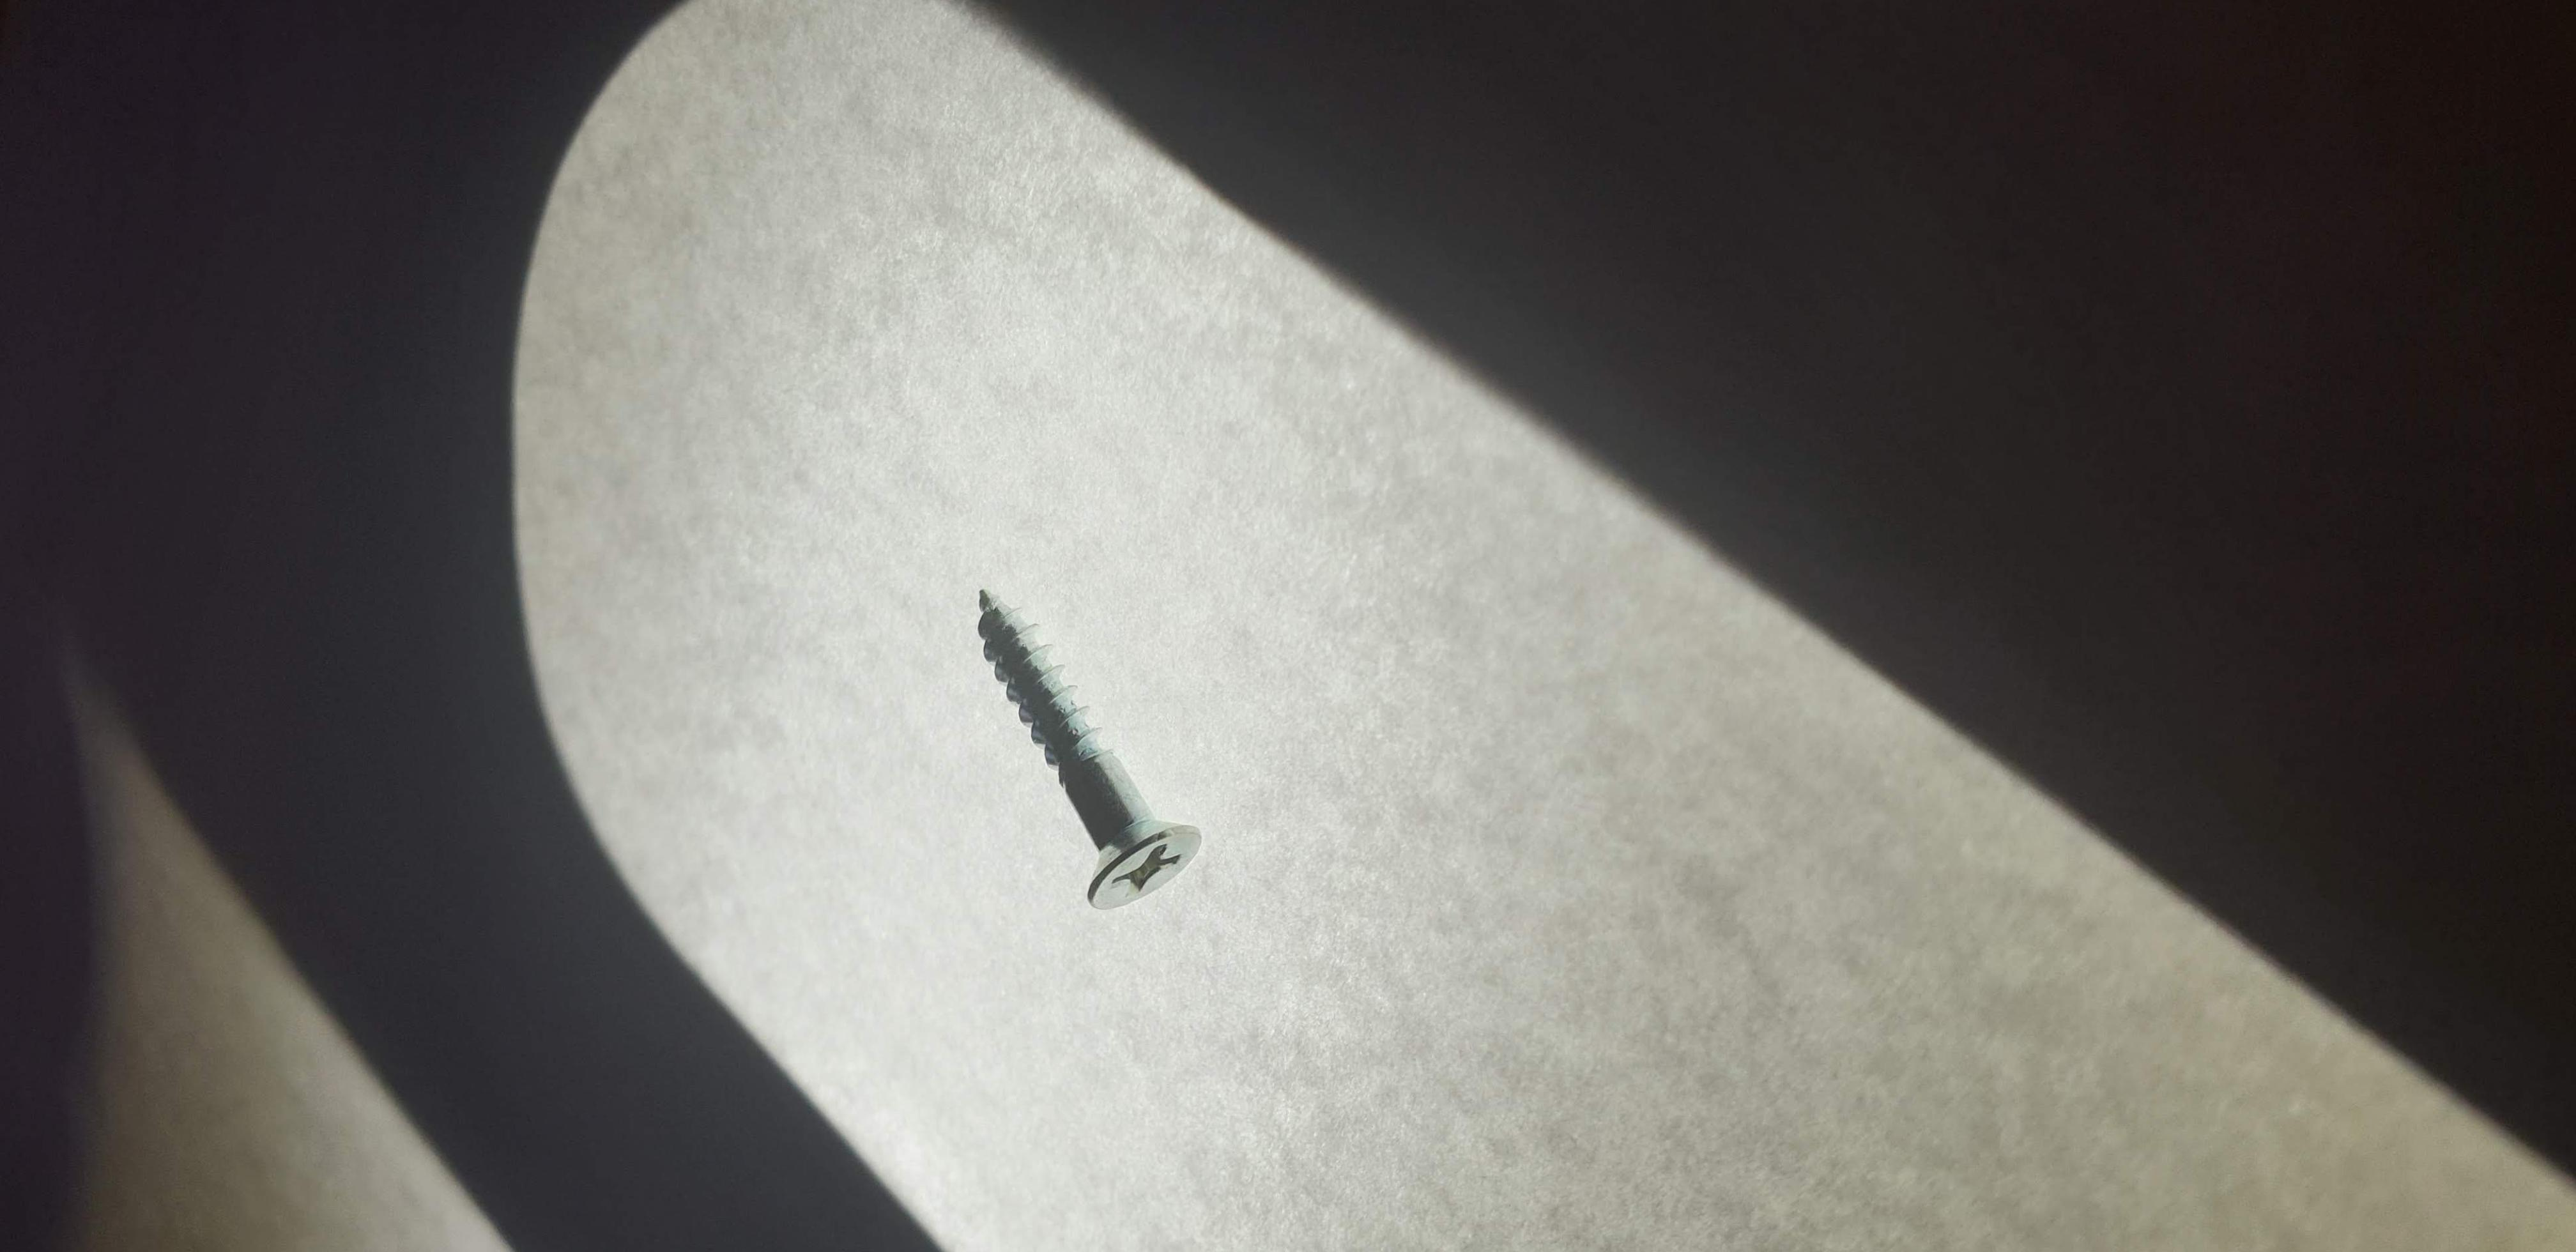S005: (920, 534, 1250, 950)
